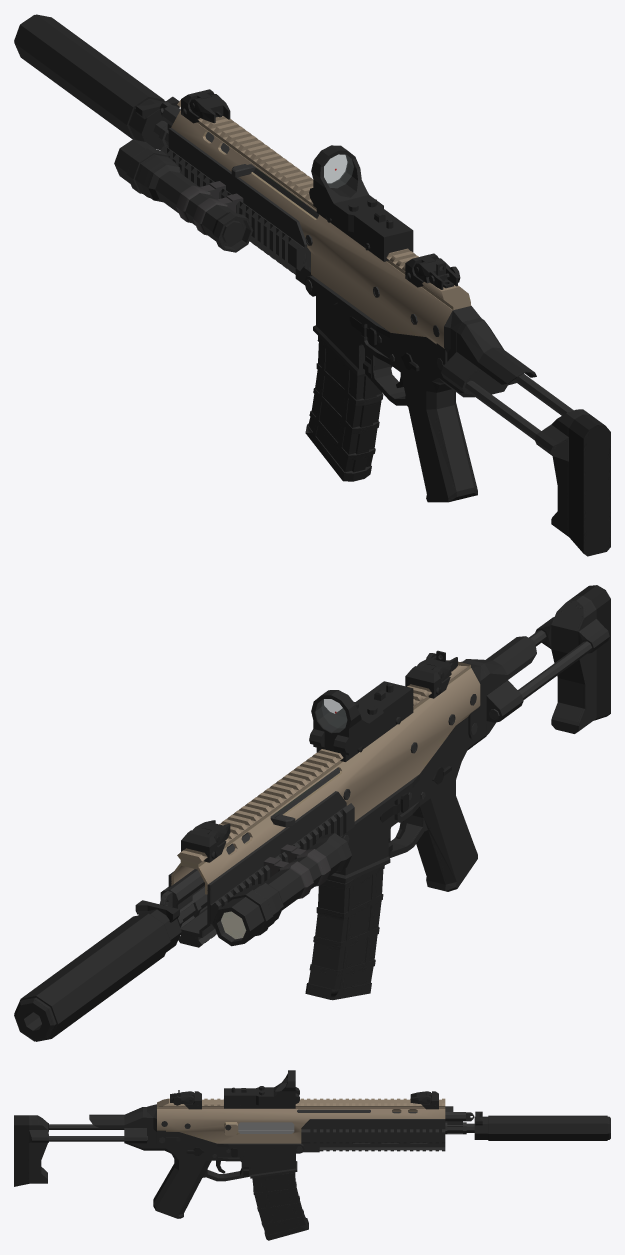
Rendered from smg.glb.
3 views of the same model, one above another, from view 1: azimuth 30°, elevation 25°; view 2: azimuth 150°, elevation 25°; view 3: azimuth 270°, elevation 25° (orthographic). The views are drawn at different scales.
Parts seen in each view (by area): view 1: Sight_Mount_Rear_MBU_Sights_MP_mat_0; view 2: Sight_Mount_Rear_MBU_Sights_MP_mat_0; view 3: Sight_Mount_Rear_MBU_Sights_MP_mat_0.
Boxes of the visible parts, x1,y1,x2,y2 form: Sight_Mount_Rear_MBU_Sights_MP_mat_0: [14, 14, 610, 556]; Sight_Mount_Rear_MBU_Sights_MP_mat_0: [14, 585, 610, 1041]; Sight_Mount_Rear_MBU_Sights_MP_mat_0: [14, 1070, 610, 1240].
Size of the model in its own units: 0.0463 by 0.1381 by 0.4488.
Materials: 12 (12 with a texture image).
